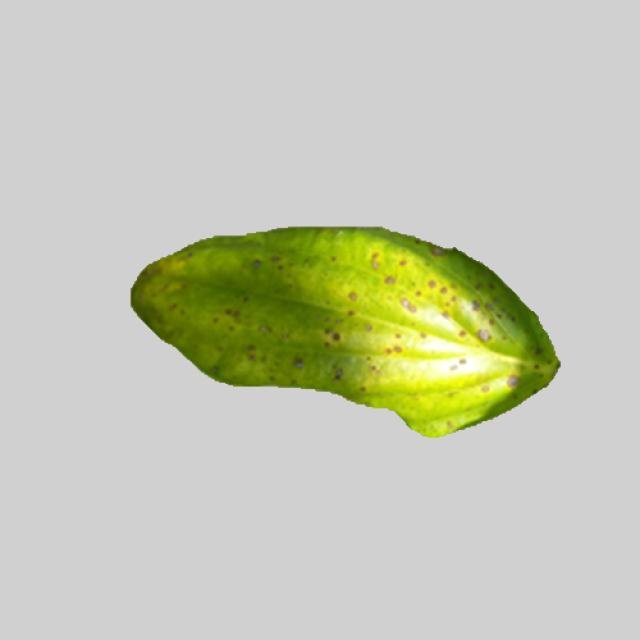yellow-mottle-virus: (125, 218, 560, 439)
